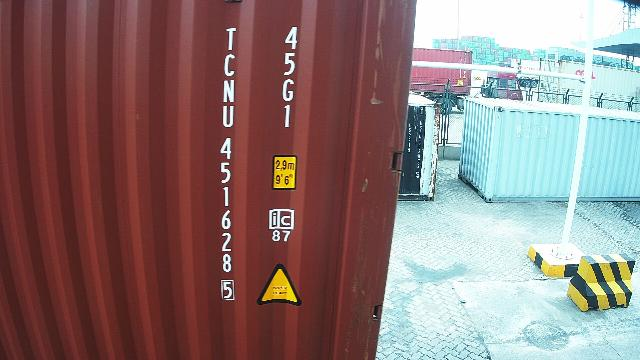1: (222, 186, 230, 208)
2: (222, 232, 232, 252)
4: (220, 136, 232, 160)
5: (220, 162, 232, 184), (222, 280, 234, 300)
6: (221, 210, 231, 230)
8: (222, 253, 232, 273)
C: (224, 54, 236, 76)
N: (222, 79, 235, 103)
T: (225, 27, 237, 51)
U: (222, 105, 234, 128)
